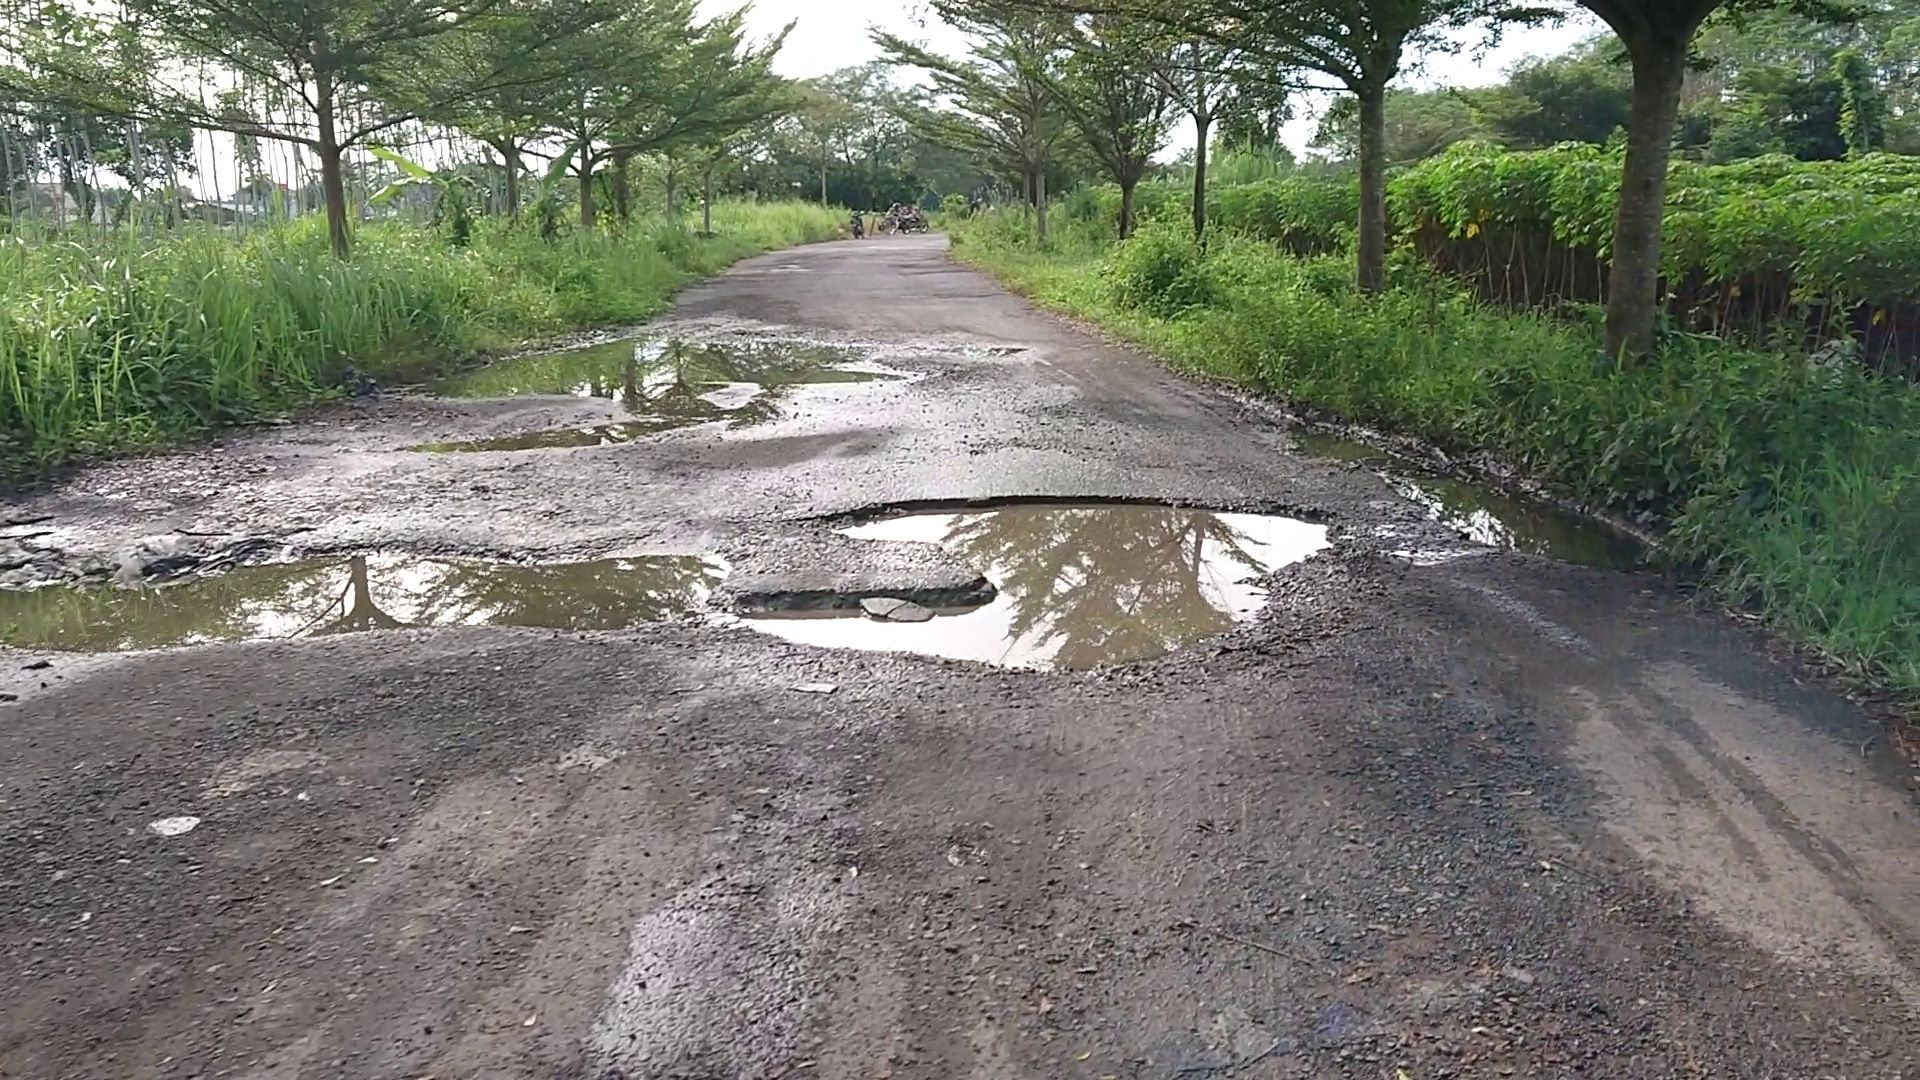Berlubang: (750, 504, 1387, 645), (454, 309, 886, 429), (20, 578, 704, 633)
